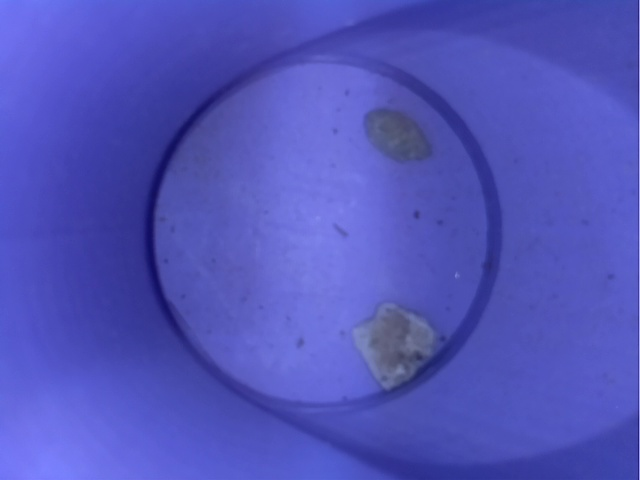caillou: (332, 291, 465, 397), (353, 94, 442, 169)
